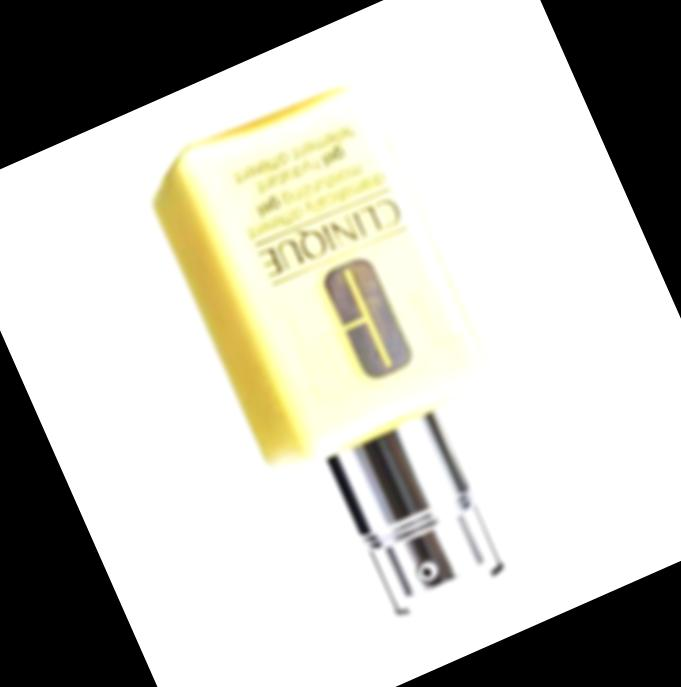cosmetic: (136, 73, 572, 649)
